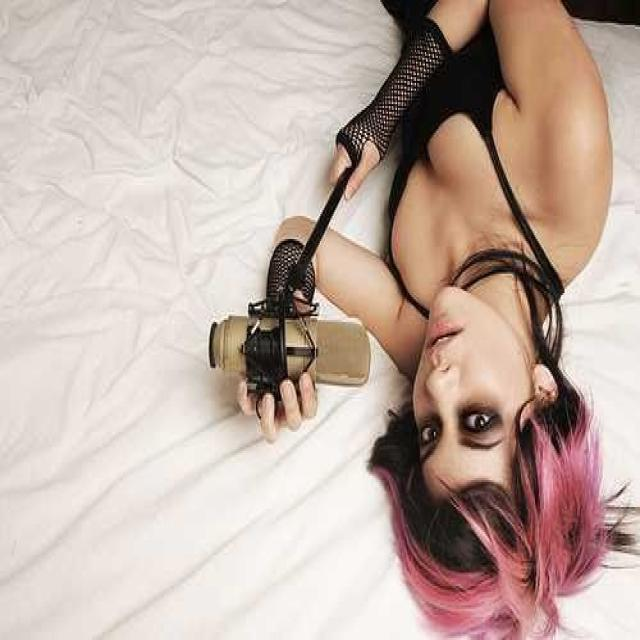microphone: (209, 306, 376, 404)
